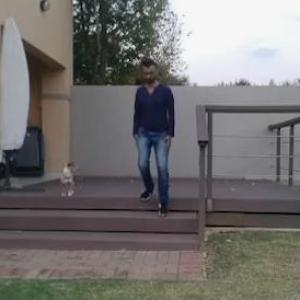follow: (138, 57, 177, 215)
